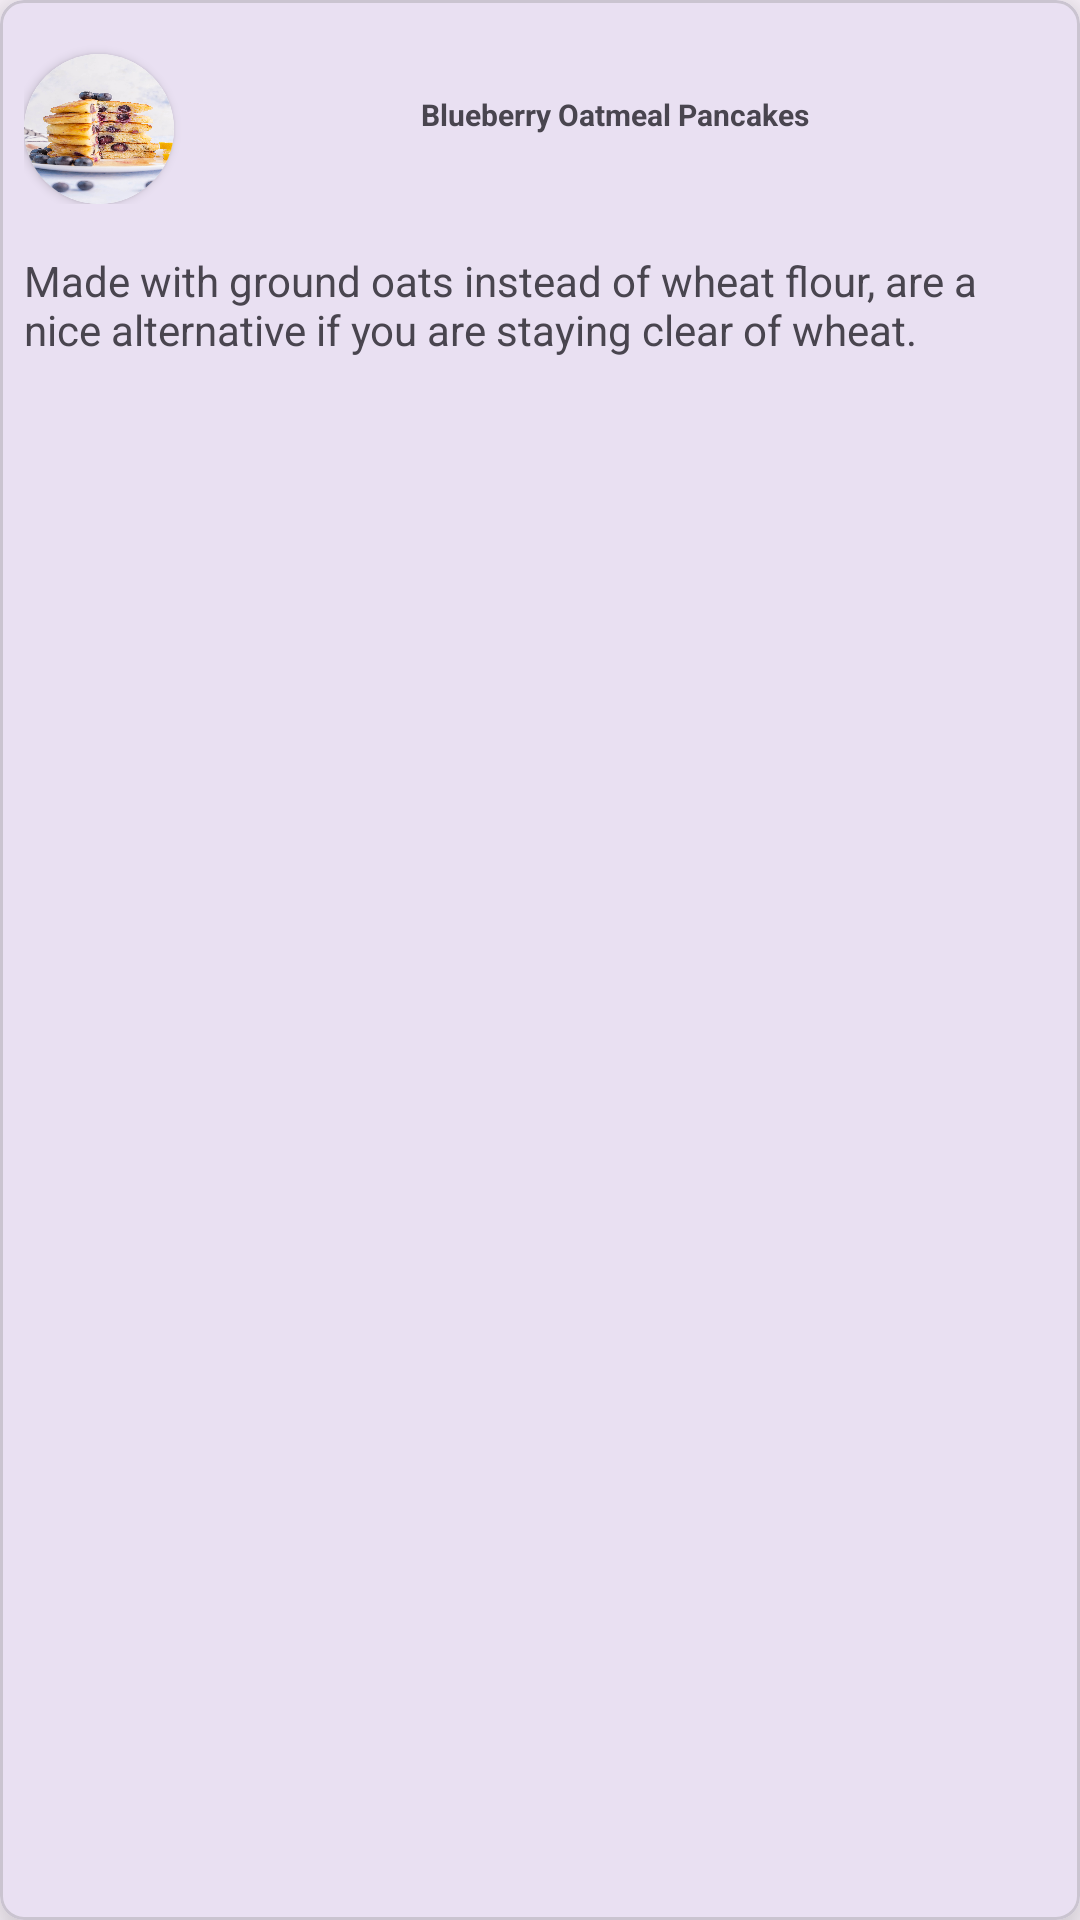

Locate icon controls on the screen. Image size 1080×1920, boxes as [x1, y1, x2, y2].
blueberrypancakes: [24, 54, 174, 204]
